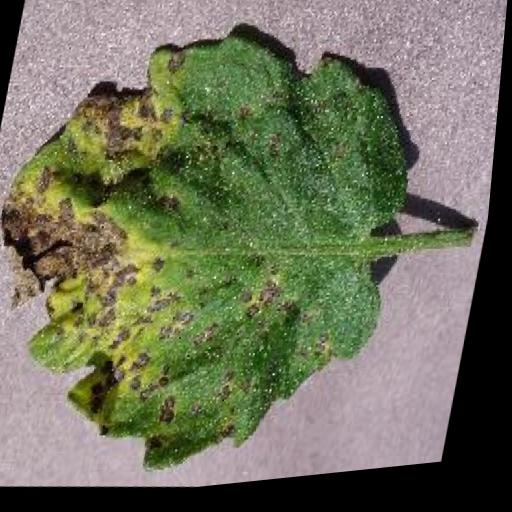Septoria: (0, 0, 447, 510)
